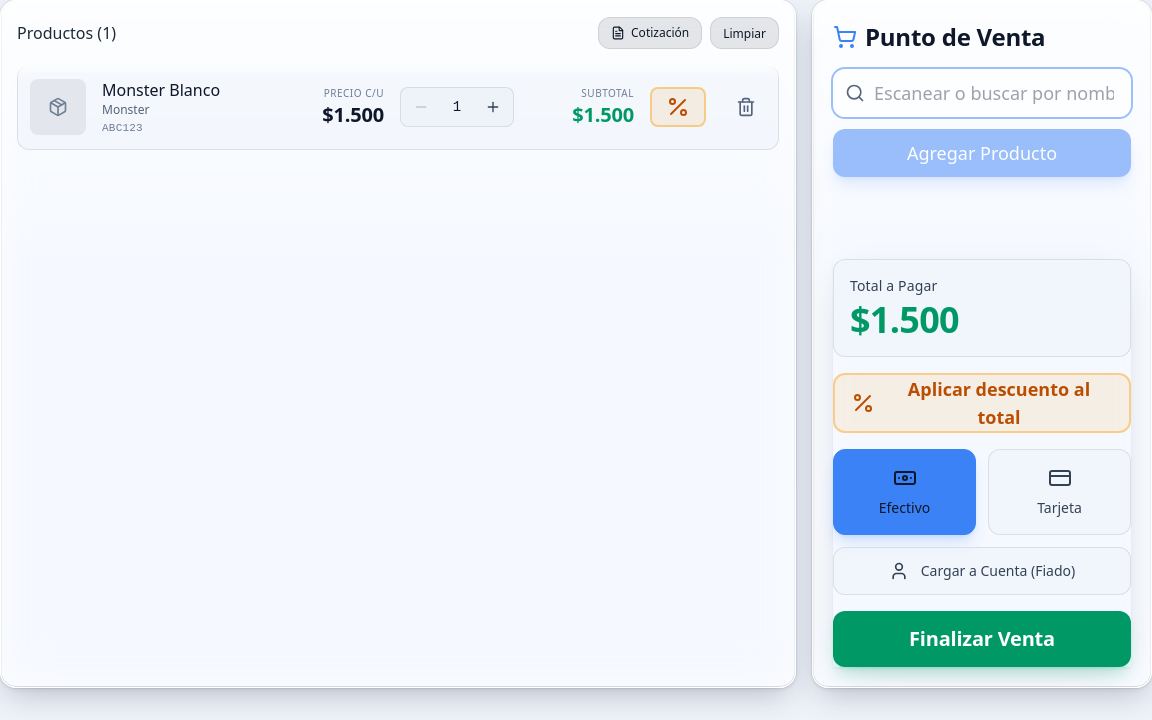
Test: Punto de venta › ± cantidad, tope de stock y quitar
This screenshot has width=1152, height=720.
Earlier steps of the test are not shown.
Type "ABC123" into the dropdown with placeholder "Escanear o buscar por nombre..." at (982, 93), box top-left (833, 69), bottom-right (1131, 117)
Then press Enter
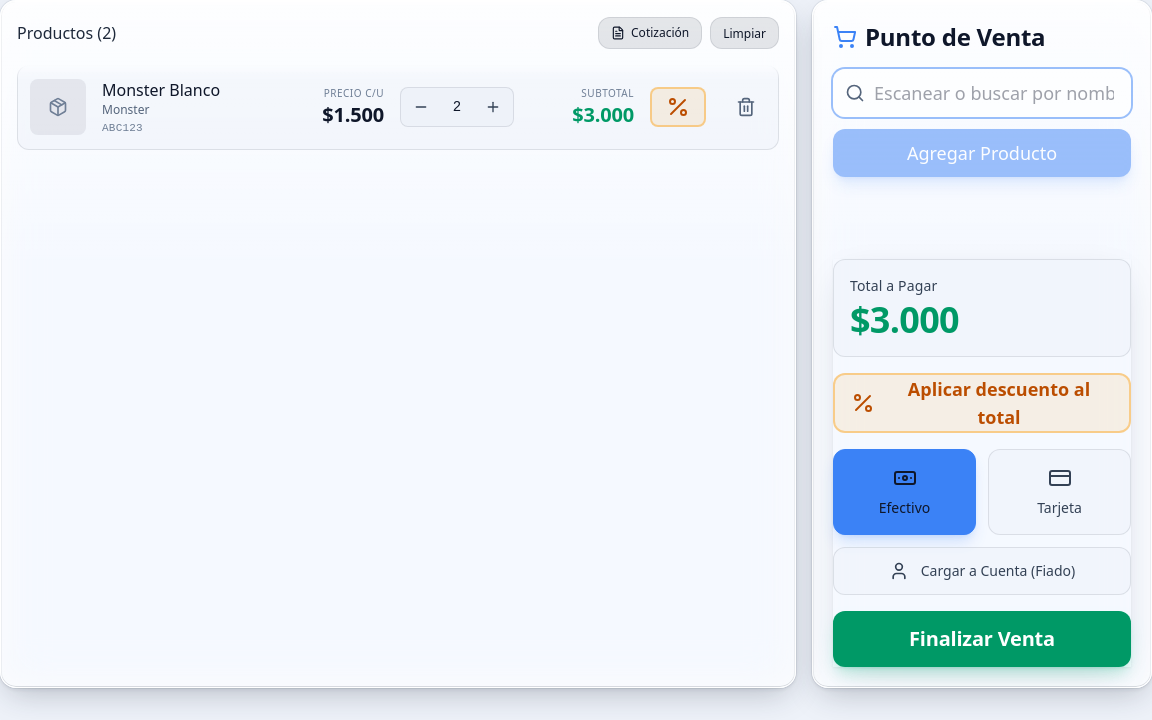
Result: the text "2" is shown at top-left (453, 99), bottom-right (461, 115)
Click the button named "Quitar una unidad" at (421, 107), box top-left (401, 88), bottom-right (441, 126)
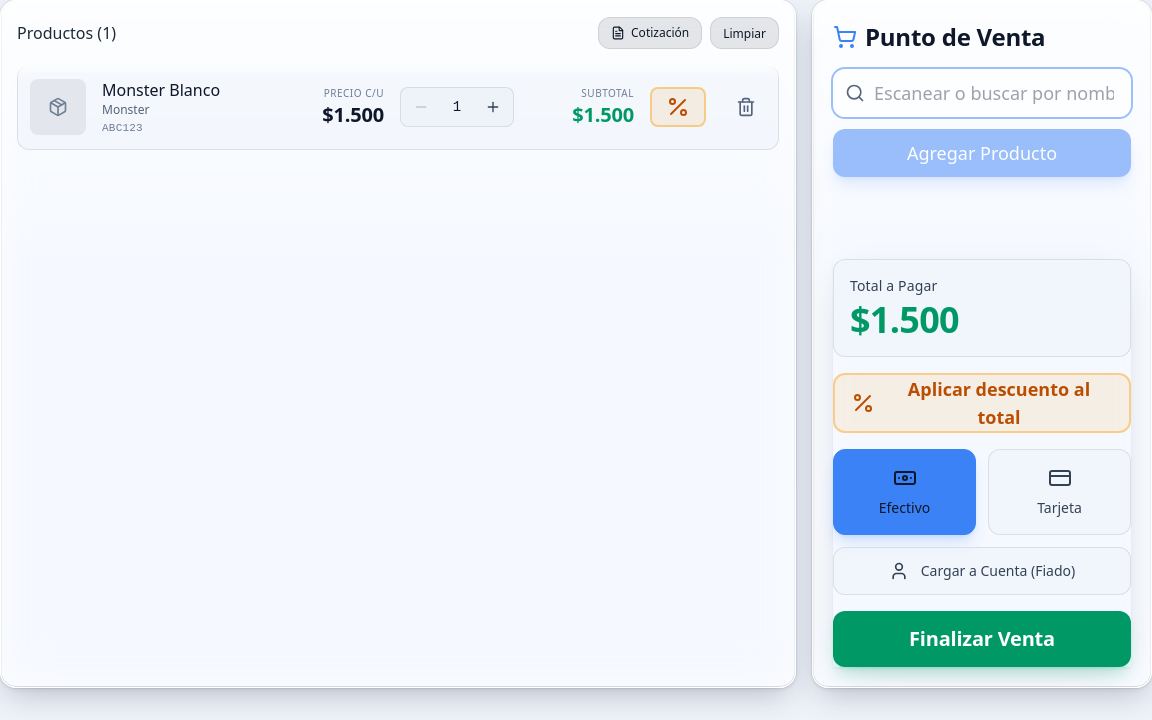
Result: the text "1" is shown at top-left (453, 99), bottom-right (461, 115)
Type "7801" into the dropdown with placeholder "Escanear o buscar por nombre..." at (982, 93), box top-left (833, 69), bottom-right (1131, 117)
Then press Enter
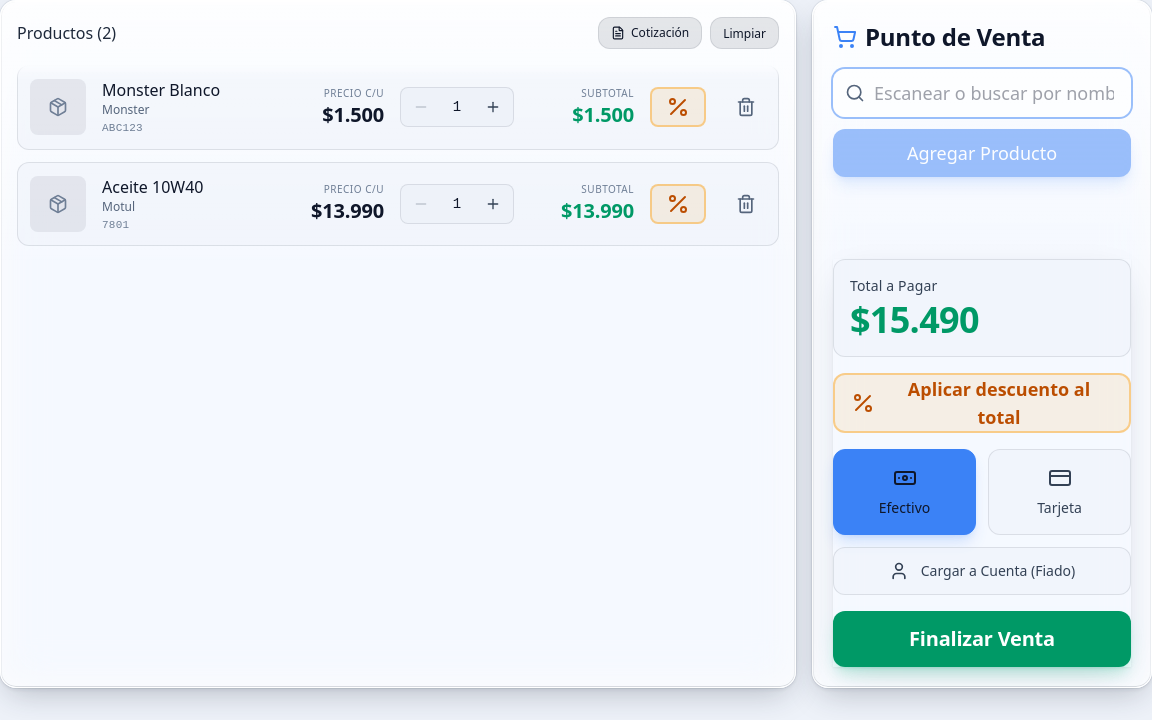
Type "7801" into the dropdown with placeholder "Escanear o buscar por nombre..." at (982, 93), box top-left (833, 69), bottom-right (1131, 117)
Then press Enter
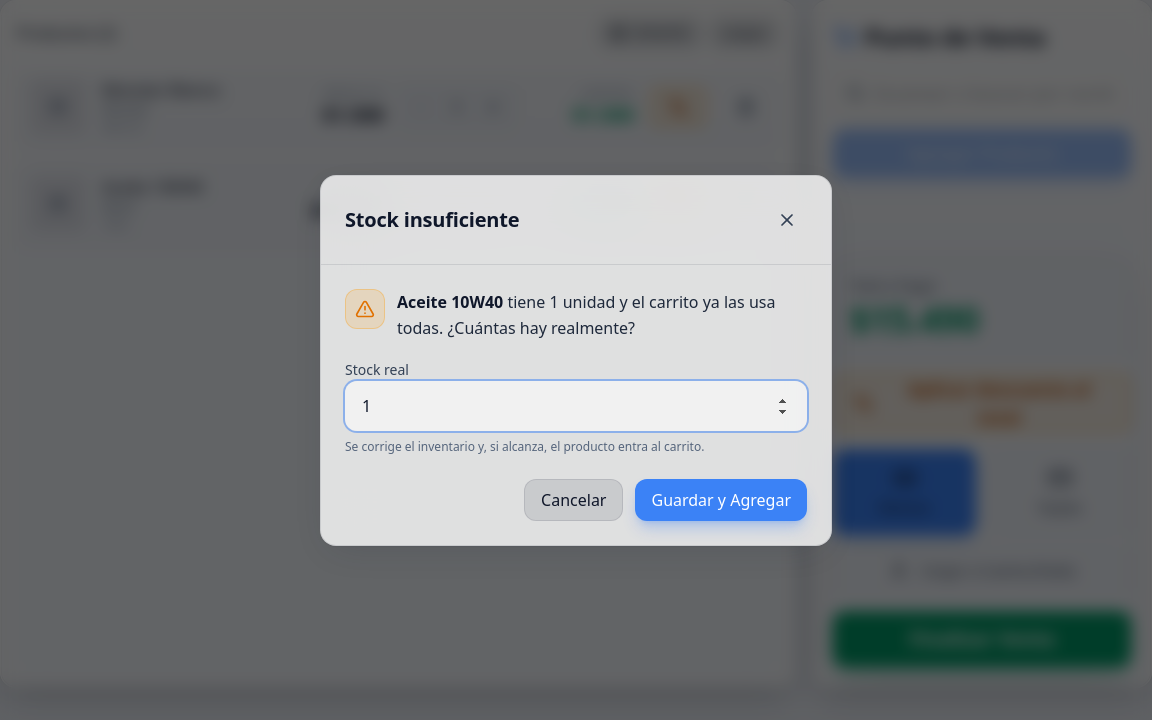
Result: the dialog "Stock insuficiente" is shown at top-left (320, 174), bottom-right (832, 546)
Click the button named "Cerrar" at (787, 220), box top-left (767, 200), bottom-right (807, 240)
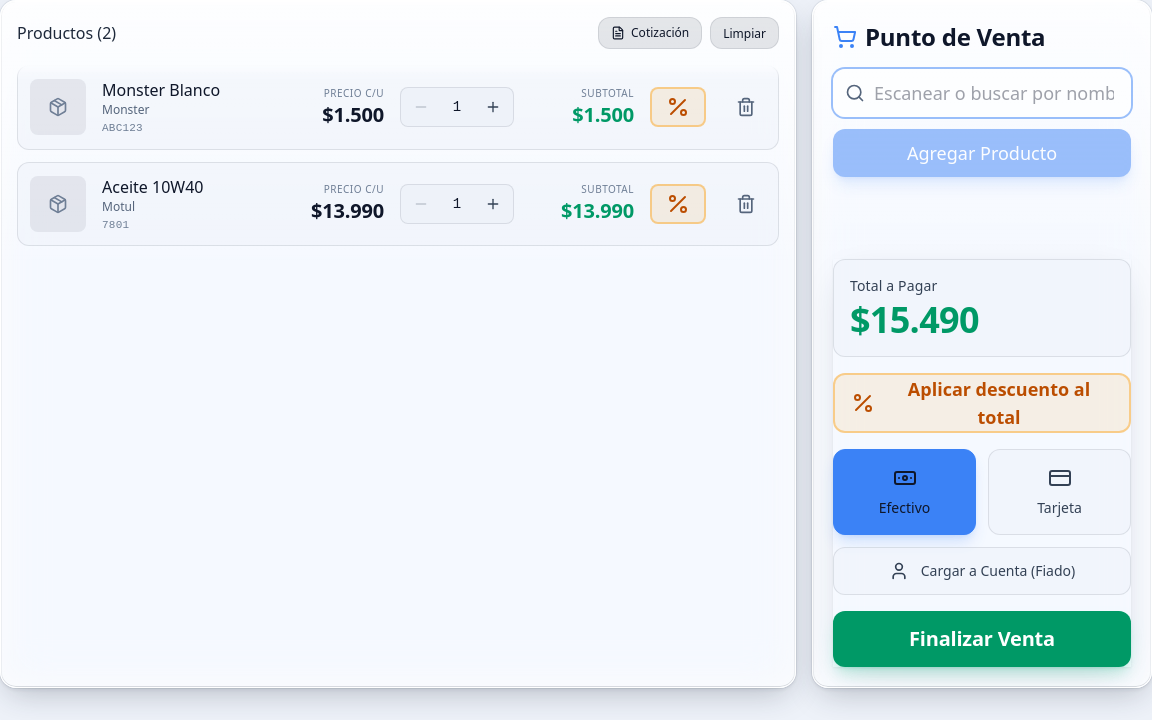
Click the button named "Quitar Monster Blanco" at (746, 107), box top-left (726, 87), bottom-right (766, 127)
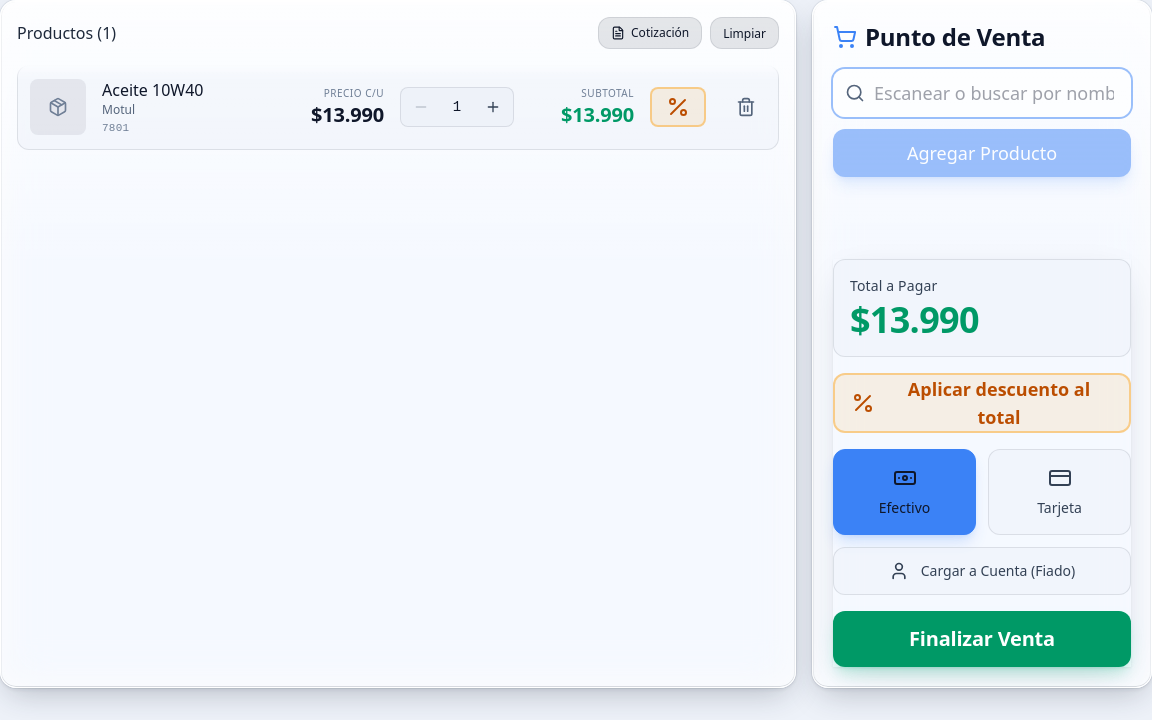
Result: the heading "Monster Blanco" is gone
